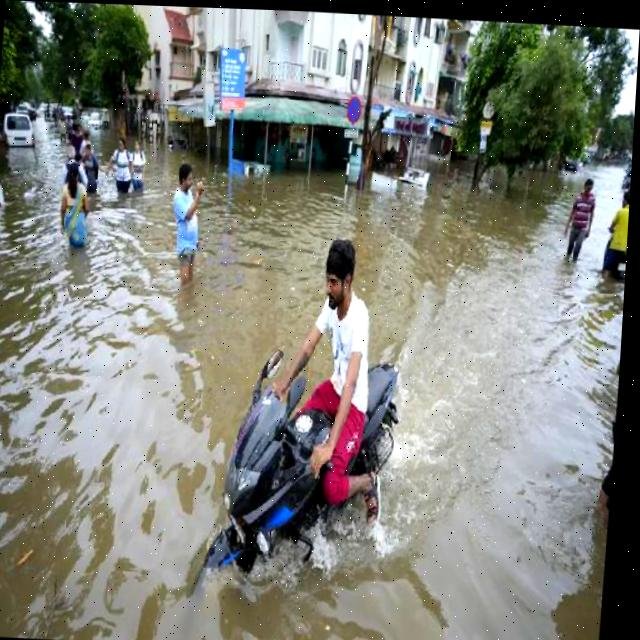civilian: (271, 226, 431, 568), (145, 152, 227, 303), (546, 170, 602, 271), (51, 160, 102, 266), (600, 184, 630, 289), (103, 136, 137, 206), (122, 134, 155, 204), (59, 146, 98, 197), (80, 134, 106, 204), (62, 124, 85, 153), (80, 121, 96, 152), (58, 111, 72, 144), (64, 110, 81, 136)
